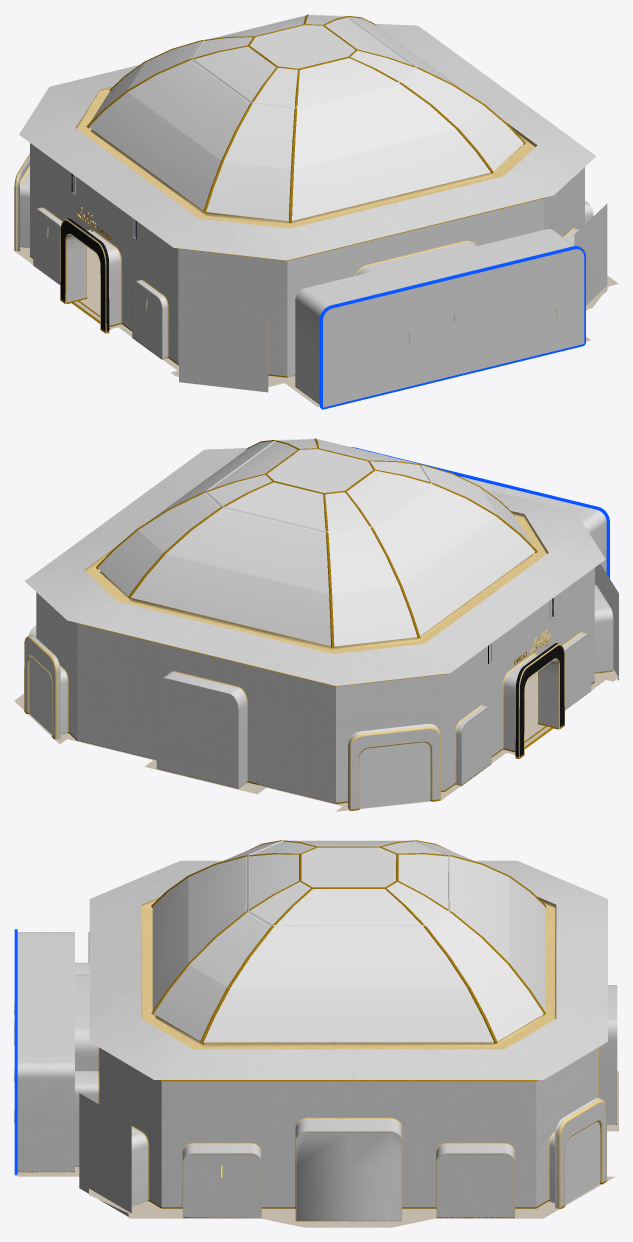
The model's file is LOBBY_avatarHub.fbx.
3 views of the same model, one above another, from view 1: azimuth 30°, elevation 25°; view 2: azimuth 150°, elevation 25°; view 3: azimuth 270°, elevation 25° (orthographic). The views are drawn at different scales.
Parts seen in each view (by area): view 1: LobbyWall, LobbyCeiling, LobbyCeilingPanel, LobbyWall.014, LobbyFloor, LobbyWall.015; view 2: LobbyWall, LobbyCeiling, LobbyCeilingPanel, LobbyWall.024, LobbyFloor, LobbyWall.014, LobbyWall.027; view 3: LobbyWall, LobbyCeiling, LobbyCeilingPanel, LobbyWall.015, LobbyFloor, LobbyWall.024, LobbyWall.027.
Part boxes in pixels (left/top/right/bottom): LobbyWall: left=14, top=143, right=593, bottom=409; LobbyCeiling: left=86, top=14, right=525, bottom=222; LobbyCeilingPanel: left=19, top=24, right=596, bottom=261; LobbyWall.014: left=179, top=295, right=268, bottom=392; LobbyFloor: left=14, top=247, right=618, bottom=406; LobbyWall.015: left=574, top=203, right=607, bottom=310; LobbyWall: left=24, top=447, right=613, bottom=810; LobbyCeiling: left=96, top=438, right=537, bottom=648; LobbyCeilingPanel: left=25, top=448, right=605, bottom=686; LobbyWall.024: left=29, top=657, right=430, bottom=808; LobbyFloor: left=14, top=669, right=618, bottom=811; LobbyWall.014: left=595, top=564, right=618, bottom=680; LobbyWall.027: left=24, top=670, right=613, bottom=810; LobbyWall: left=14, top=929, right=617, bottom=1221; LobbyCeiling: left=151, top=840, right=546, bottom=1043; LobbyCeilingPanel: left=89, top=860, right=607, bottom=1081; LobbyWall.015: left=79, top=1093, right=131, bottom=1216; LobbyFloor: left=17, top=1071, right=618, bottom=1227; LobbyWall.024: left=565, top=1122, right=600, bottom=1204; LobbyWall.027: left=18, top=1123, right=616, bottom=1221.
Size of what is drawn, in the model's own units: 2259 by 1055 by 2393.
Materials: 15 (7 with a texture image).
